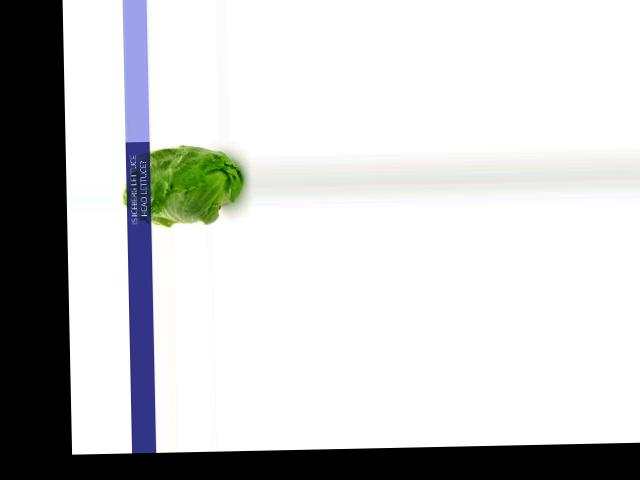lettuce: (121, 147, 248, 227)
